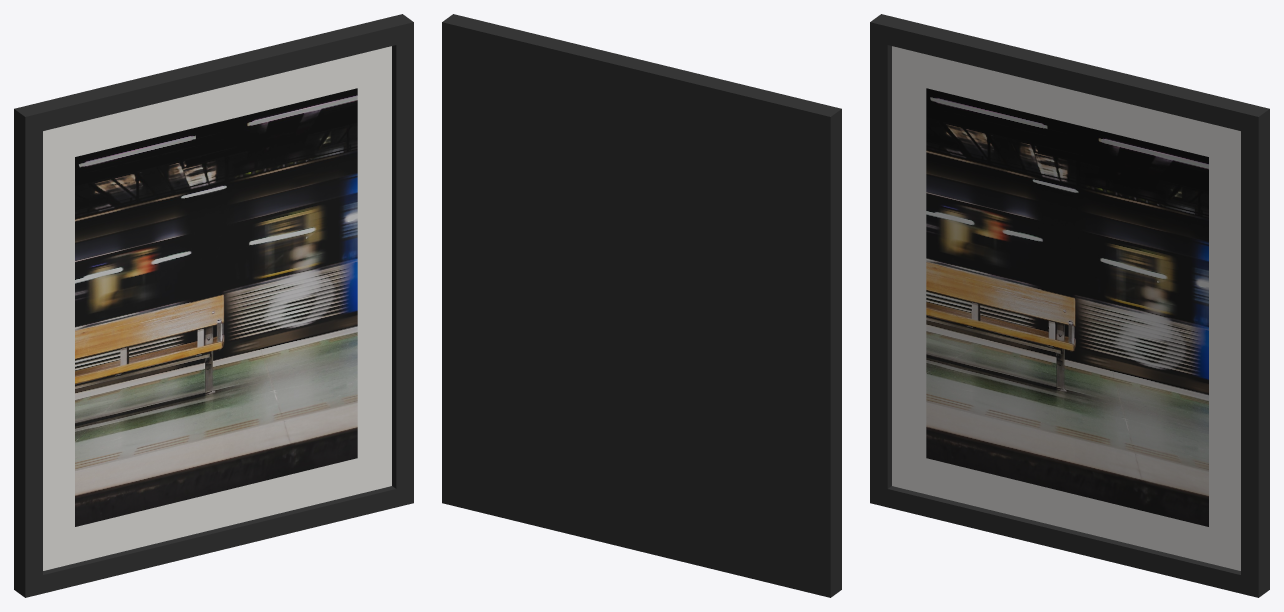
Rendered from perrongen-40.gltf.
The picture shows the model from 3 angles, left to right: view 1: azimuth 30°, elevation 25°; view 2: azimuth 150°, elevation 25°; view 3: azimuth 330°, elevation 25°; orthographic projection.
Visible parts, largest first — view 1: tavla; view 2: tavla; view 3: tavla.
Part boxes in pixels (left/top/right/bottom): tavla: left=14, top=14, right=413, bottom=597; tavla: left=442, top=14, right=841, bottom=597; tavla: left=870, top=14, right=1269, bottom=597.
Size of the model in its own units: 0.4397 by 0.52 by 0.022.
3 materials, 1 textured.
